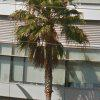Palm tree: (12, 3, 79, 90)
